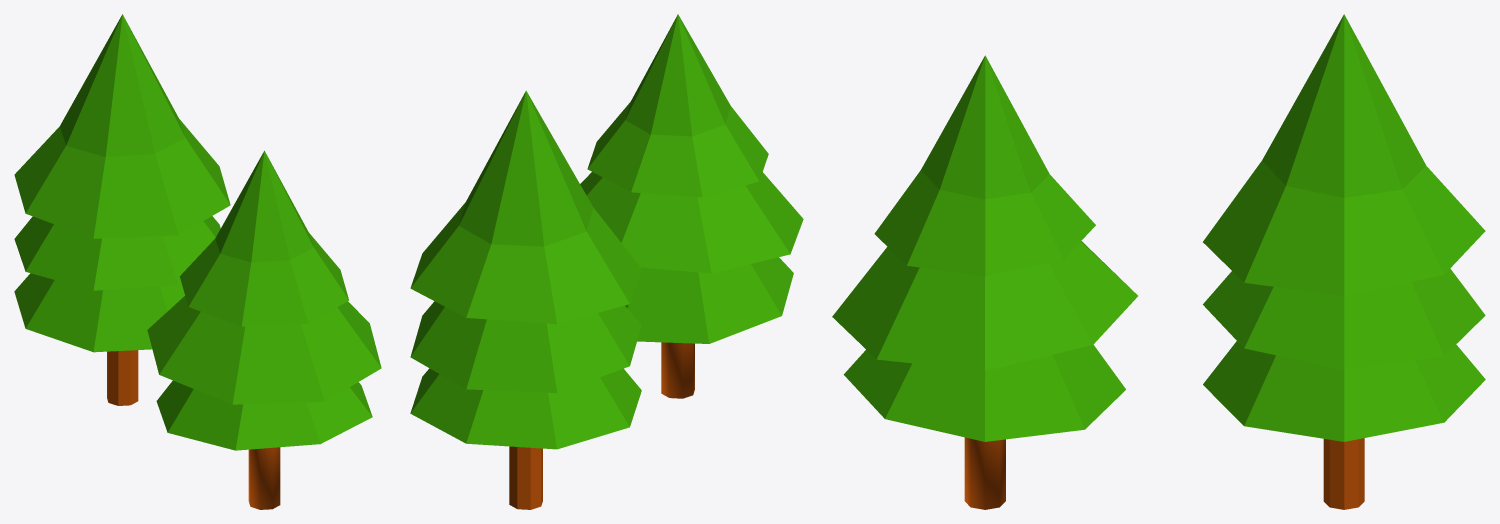
Rendered from Pine Trees.fbx.
3 renders of one model, left to right at view 1: azimuth 30°, elevation 25°; view 2: azimuth 150°, elevation 25°; view 3: azimuth 270°, elevation 25°, orthographic. The views are drawn at different scales.
Visible parts, largest first — view 1: PT-Leaf1.001, PT-Leaf2.002, PT-Leaf1.002, PT-Leaf2.001, PT-Leaf3.002, PT-Leaf3.001, PT-Body.001, PT-Body; view 2: PT-Leaf1.001, PT-Leaf1.002, PT-Leaf2.001, PT-Leaf2.002, PT-Leaf3.001, PT-Leaf3.002, PT-Body, PT-Body.001; view 3: PT-Leaf1.001, PT-Leaf2.002, PT-Leaf1.002, PT-Leaf2.001, PT-Leaf3.001, PT-Leaf3.002, PT-Body, PT-Body.001.
Part boxes in pixels (x1,y1,x2,y2): PT-Leaf1.001: [14, 14, 230, 238]; PT-Leaf2.002: [147, 296, 381, 404]; PT-Leaf1.002: [180, 150, 348, 326]; PT-Leaf2.001: [14, 216, 220, 290]; PT-Leaf3.002: [156, 380, 372, 450]; PT-Leaf3.001: [14, 273, 184, 352]; PT-Body.001: [248, 447, 280, 509]; PT-Body: [107, 350, 138, 405]; PT-Leaf1.001: [410, 90, 641, 324]; PT-Leaf1.002: [587, 14, 768, 197]; PT-Leaf2.001: [410, 301, 641, 392]; PT-Leaf2.002: [580, 172, 803, 273]; PT-Leaf3.001: [410, 368, 641, 449]; PT-Leaf3.002: [625, 257, 793, 343]; PT-Body: [509, 446, 542, 509]; PT-Body.001: [661, 342, 694, 398]; PT-Leaf1.001: [1203, 14, 1485, 296]; PT-Leaf2.002: [832, 241, 1137, 371]; PT-Leaf1.002: [874, 55, 1095, 276]; PT-Leaf2.001: [1203, 268, 1485, 369]; PT-Leaf3.001: [1203, 341, 1485, 441]; PT-Leaf3.002: [843, 345, 1125, 441]; PT-Body: [1323, 438, 1364, 509]; PT-Body.001: [964, 437, 1005, 509].
Size of the model in its own units: 373 by 653 by 794.
